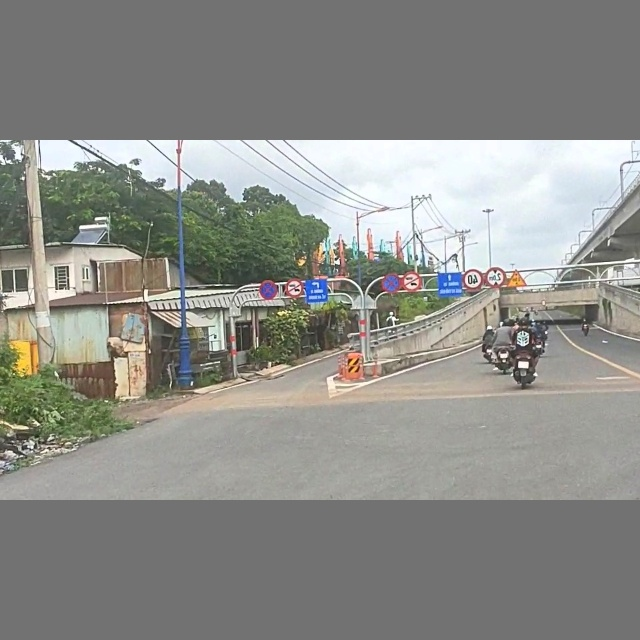P.107: (402, 271, 422, 291), (286, 279, 303, 299)
P.117*: (485, 267, 506, 289)
P.127*40: (462, 269, 483, 290)
P.130: (259, 279, 278, 301), (382, 273, 401, 293)
W.239b*: (507, 268, 528, 289)
